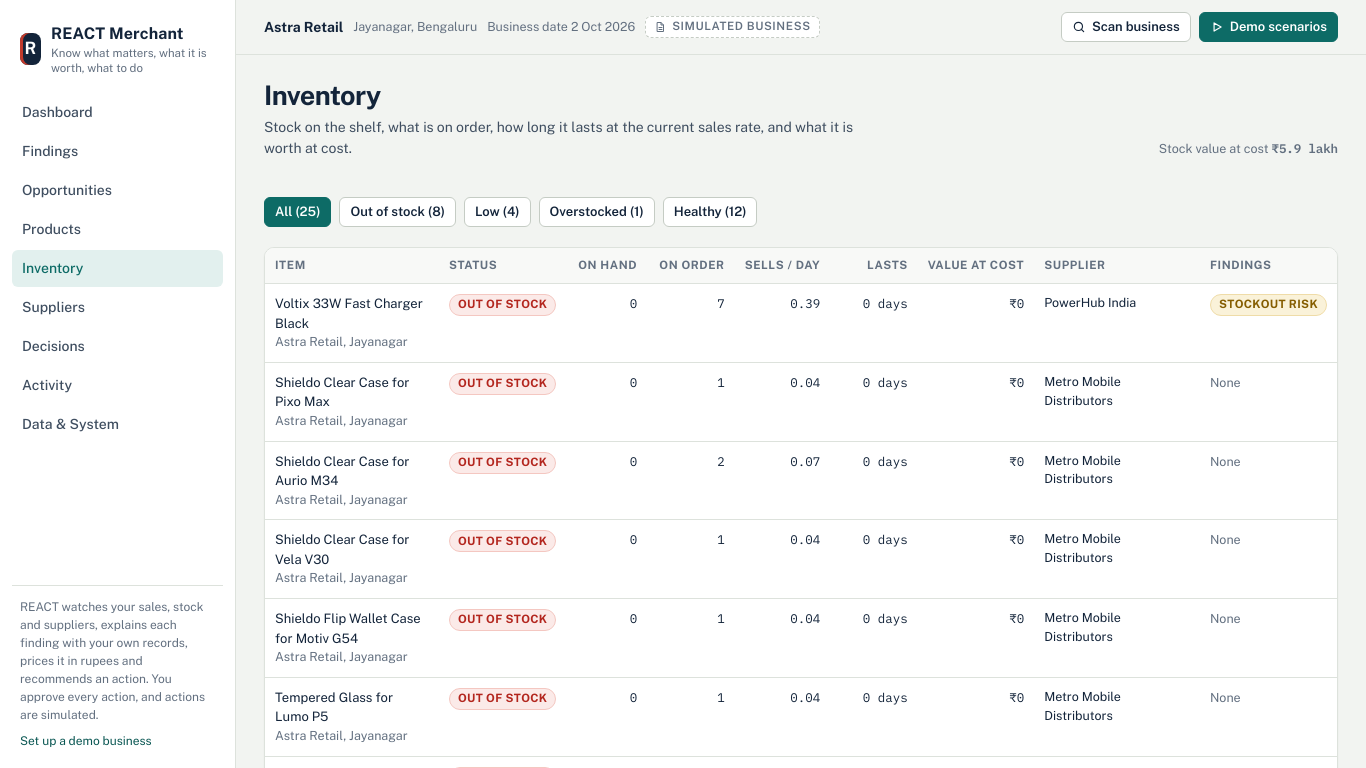
Products, inventory and suppliers › filters stock by status
Click the button "Out of stock (8)": click(398, 212) x1=339 y1=197 x2=456 y2=227
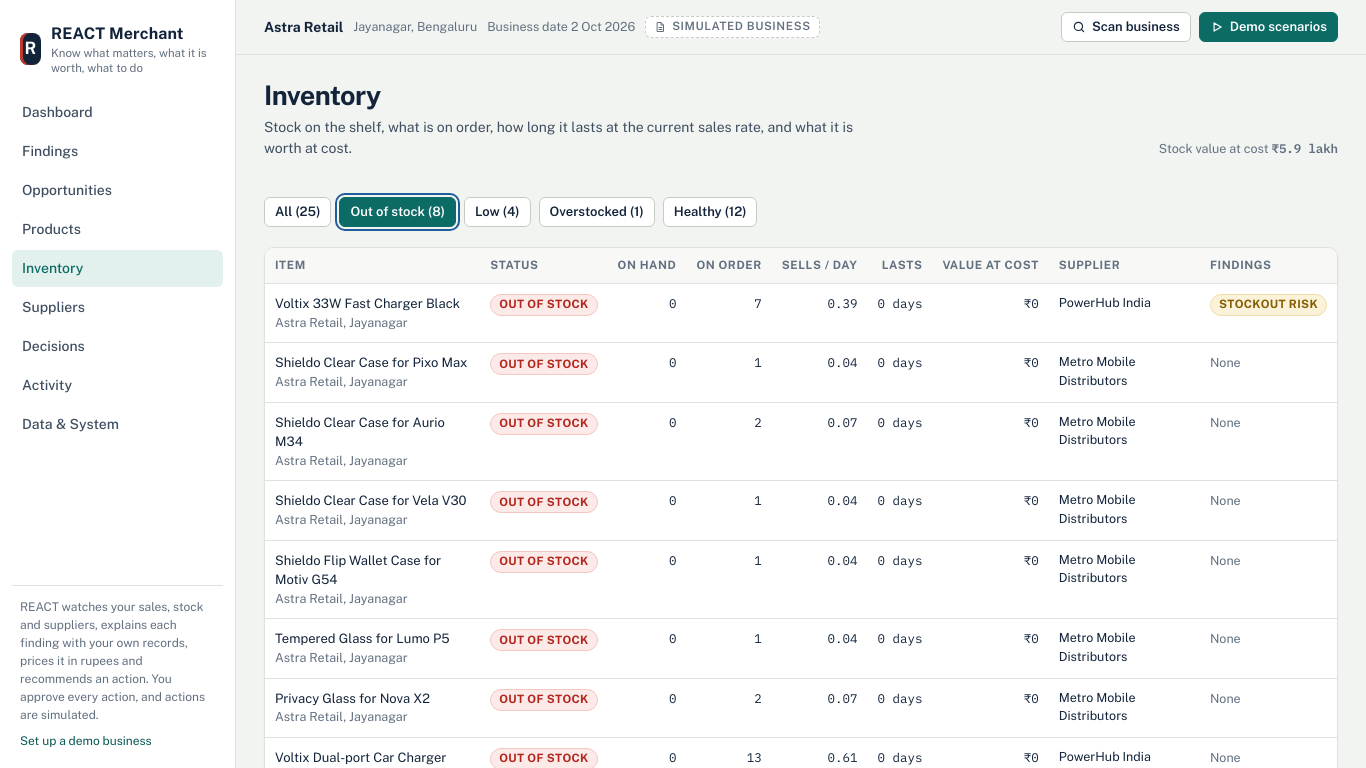
Check: the number of rows is 9
